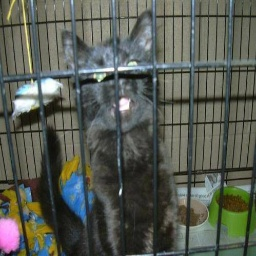cat: (37, 19, 179, 248)
